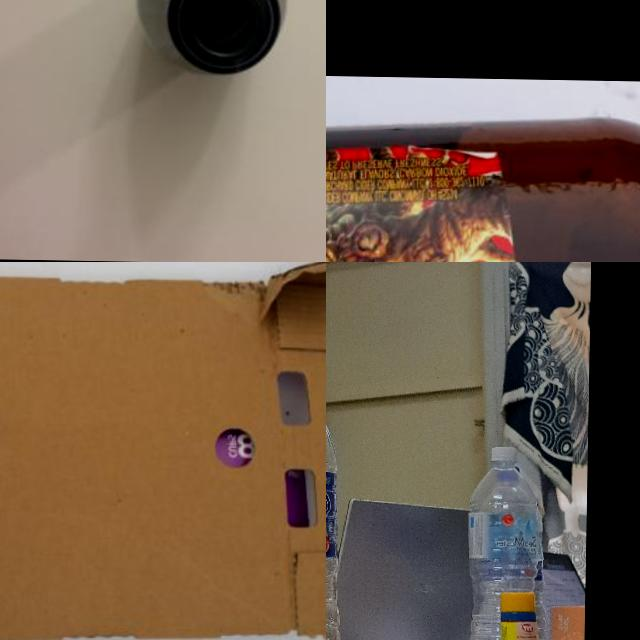garrafa de vidro: (326, 104, 640, 262), (132, 0, 284, 77)
garrafa plástica: (461, 466, 543, 640)
papelão: (0, 262, 326, 640)
tampa plástica: (494, 441, 516, 462)
